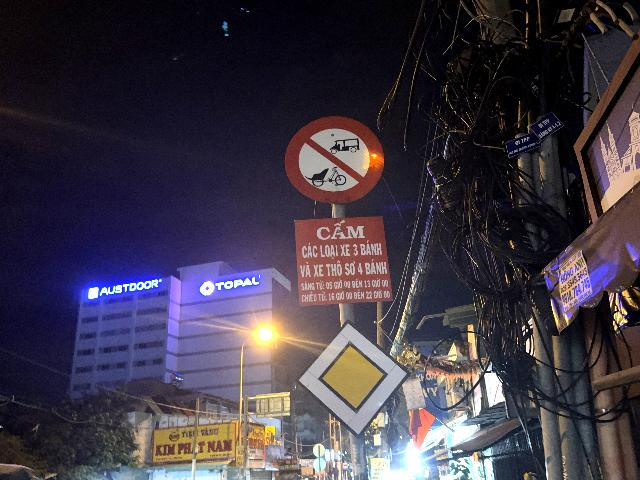bat-dau-duong-uu-tien: (295, 319, 410, 438)
cam-xe-3-banh-xe-tho-so-4-banh: (284, 115, 384, 205)
